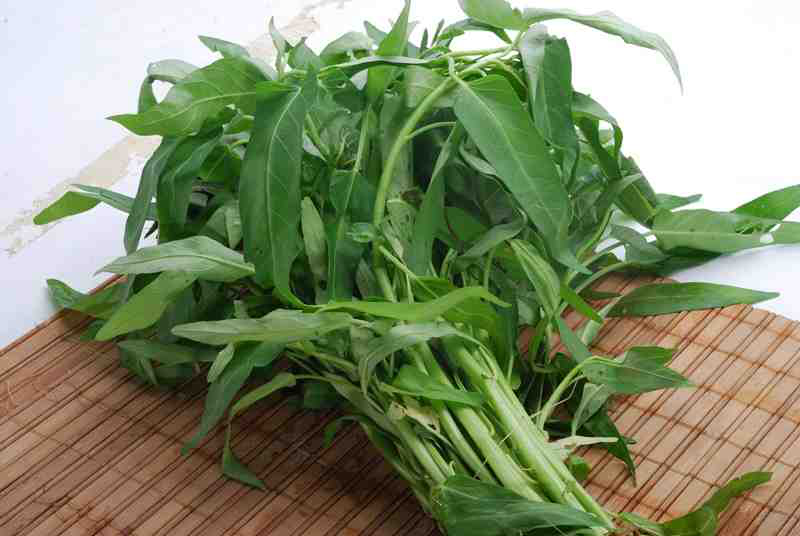Kangkung: (88, 12, 659, 502)
